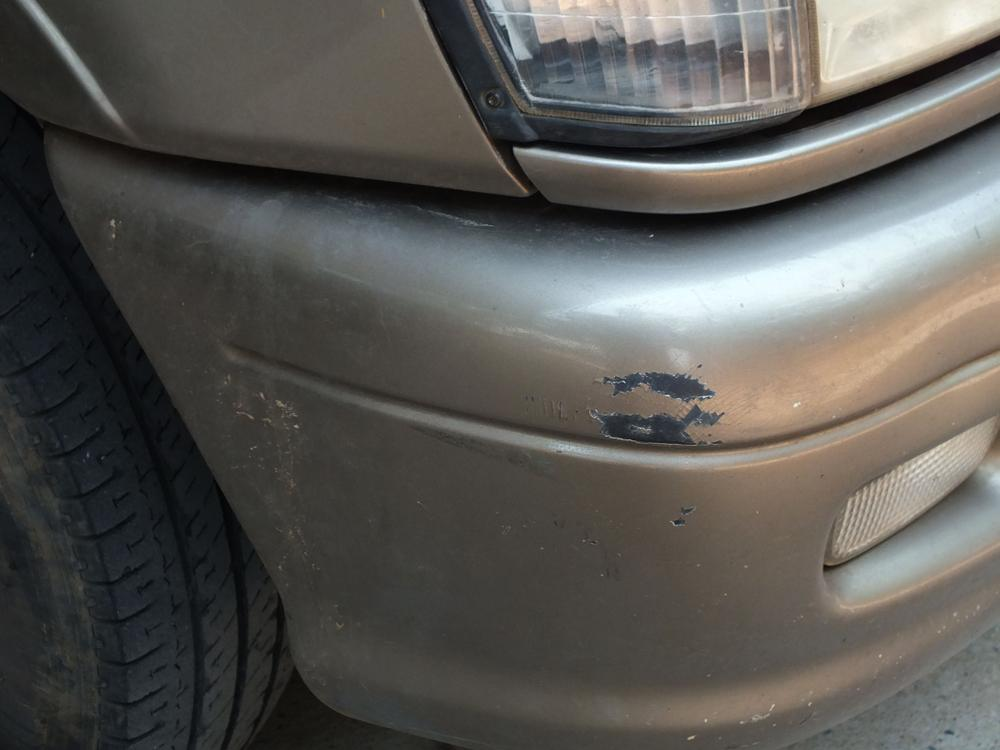scratch: (585, 369, 724, 447)
